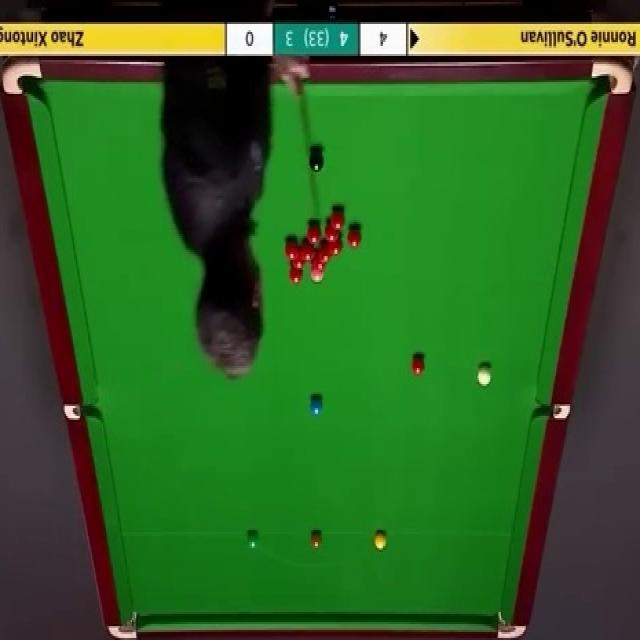pocket: (1, 55, 45, 100), (589, 55, 635, 97), (495, 606, 531, 640), (110, 608, 139, 640), (538, 402, 572, 422), (67, 405, 103, 420)
